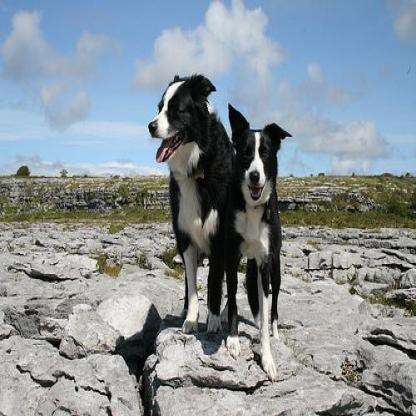Border_collie: (146, 69, 234, 332), (218, 97, 296, 381)
